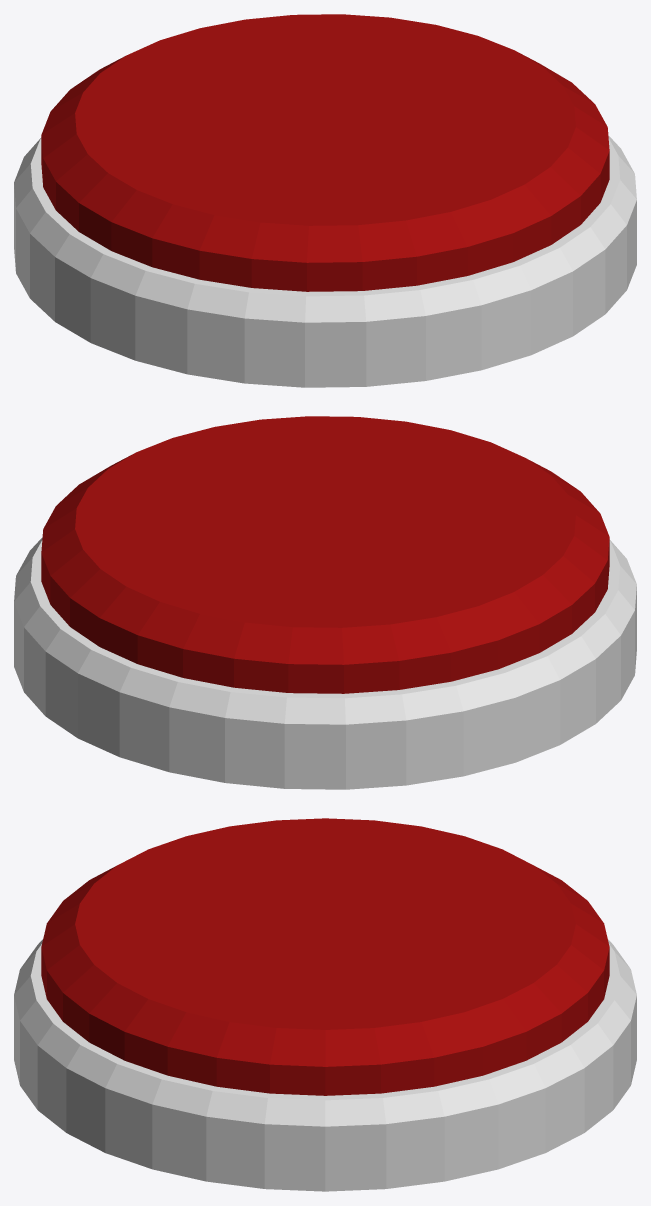
The model's file is button.fbx.
3 views of the same model, one above another, from view 1: azimuth 30°, elevation 25°; view 2: azimuth 150°, elevation 25°; view 3: azimuth 270°, elevation 25° (orthographic).
Parts seen in each view (by area): view 1: Cylinder, Cylinder.001; view 2: Cylinder, Cylinder.001; view 3: Cylinder, Cylinder.001.
Boxes of the visible parts, x1,y1,x2,y2 form: Cylinder: (41,14,609,291); Cylinder.001: (14,135,636,387); Cylinder: (41,416,609,693); Cylinder.001: (14,537,636,789); Cylinder: (41,818,609,1095); Cylinder.001: (14,939,636,1191).
Bounding box in the file's own units: 219 × 52.74 × 219.
